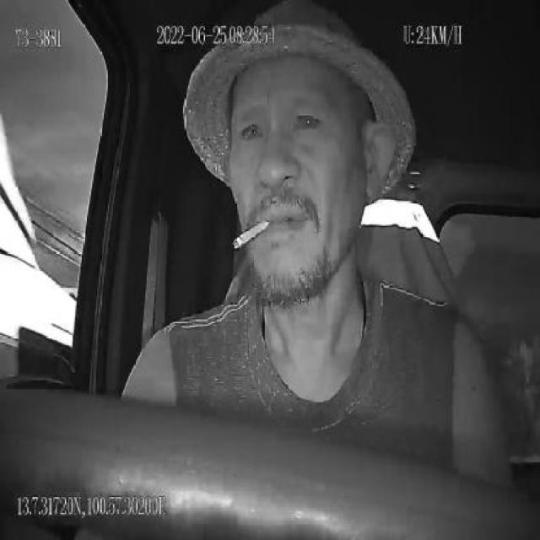smoking: (233, 217, 269, 248)
